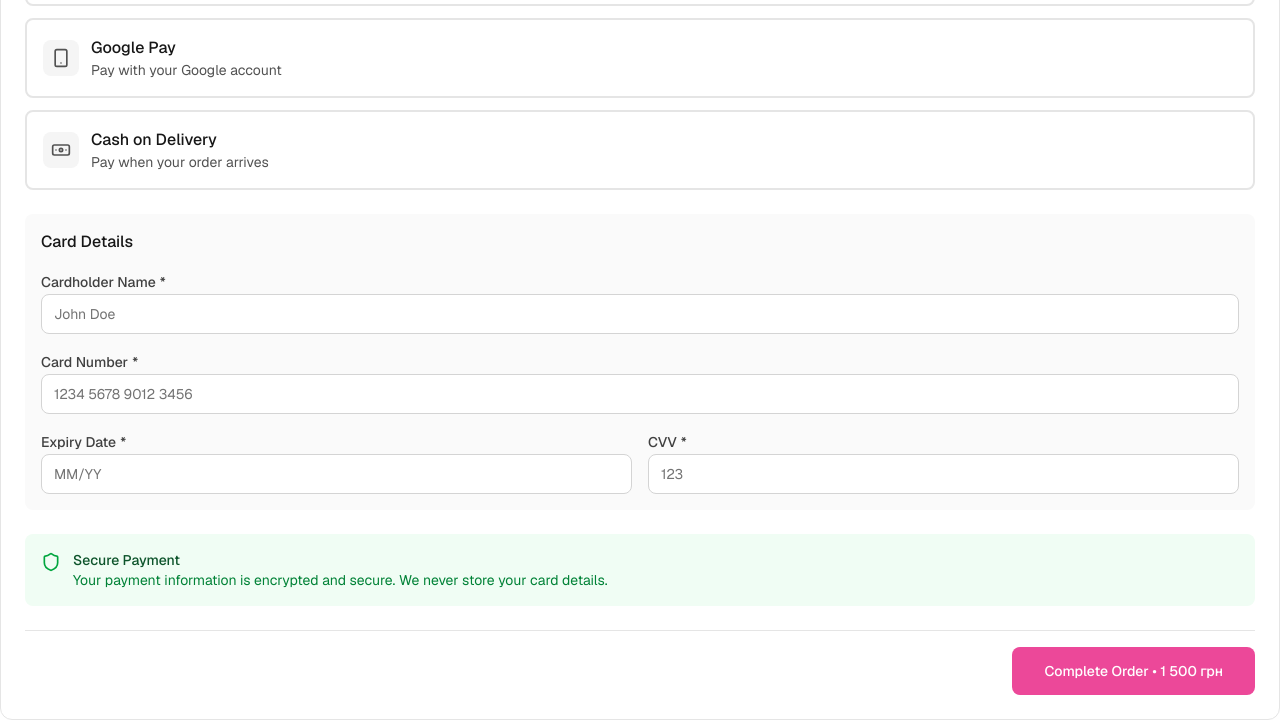
it: PaymentForm › Card payment form › should limit CVV to 4 digits
The image size is (1280, 720).
(page scrolled)
Type "12345" into the field labelled "CVV*" at (944,474), box [648,454,1239,494]
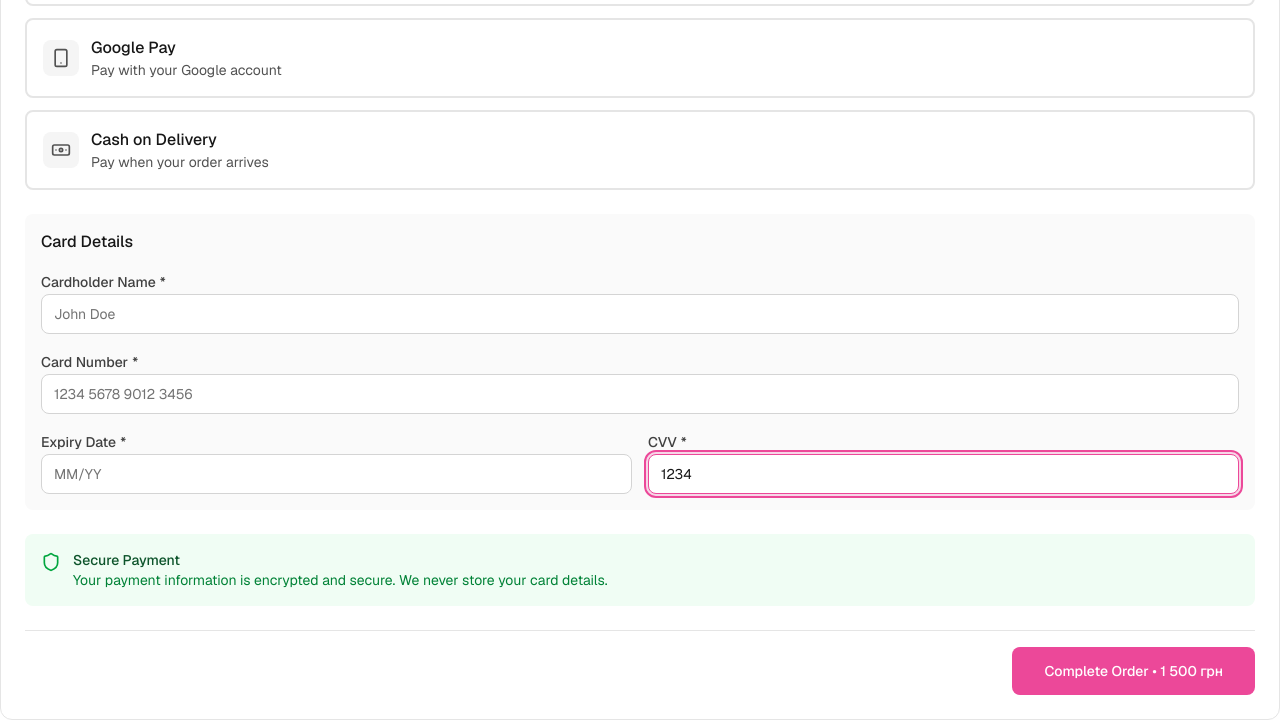
Expected: the field labelled "CVV*" holds "1234", [648,454,1239,494]
